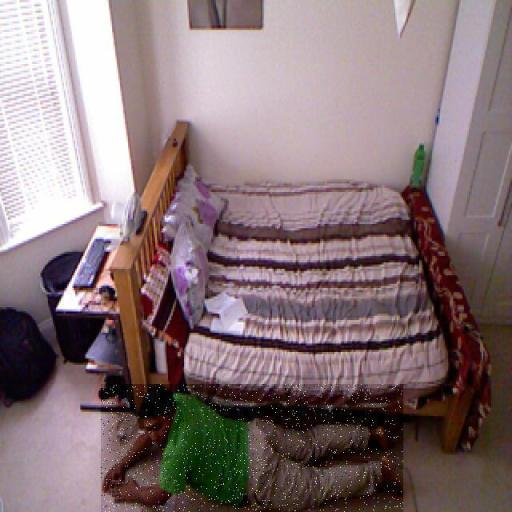Fall: (101, 384, 403, 512)
